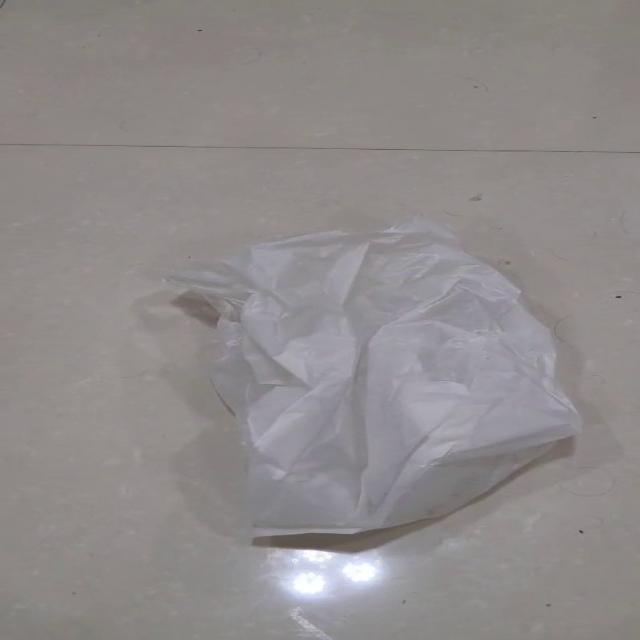plastic: (162, 215, 582, 536)
